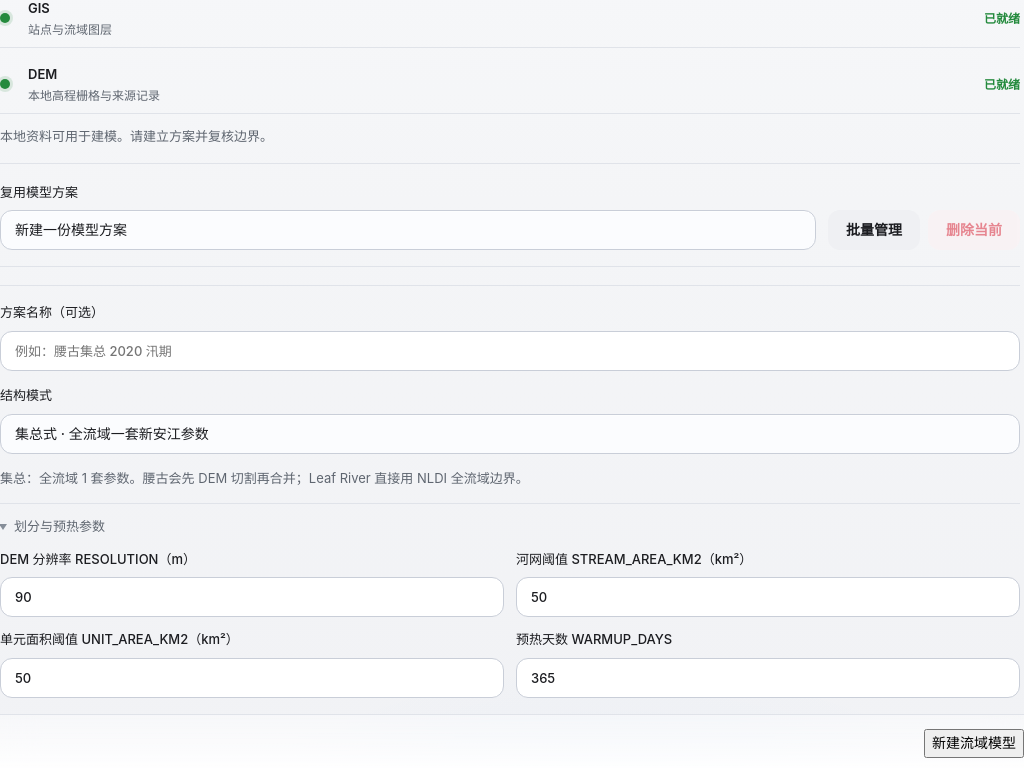
Test: ModelPreparation › opens the build dialog instead of appending the modeling flow
This screenshot has width=1024, height=768.
(page scrolled)
Step 1. Click the button with test id "build-plan" → click(974, 743), box [924,729,1023,758]
(page scrolled)
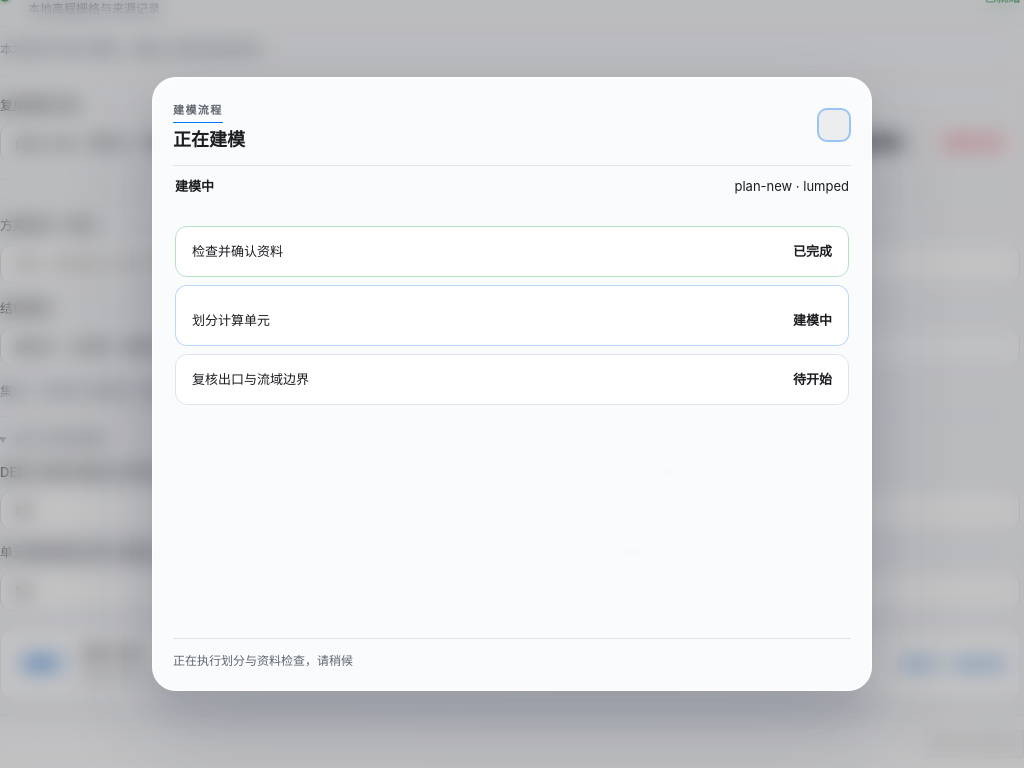
Now the text "划分计算单元" is shown, box [192,310,270,331]
Now the text "检查并确认资料" is shown, box [192,241,283,262]
Now the list item "划分计算单元 建模中" is shown, box [175,285,849,346]
